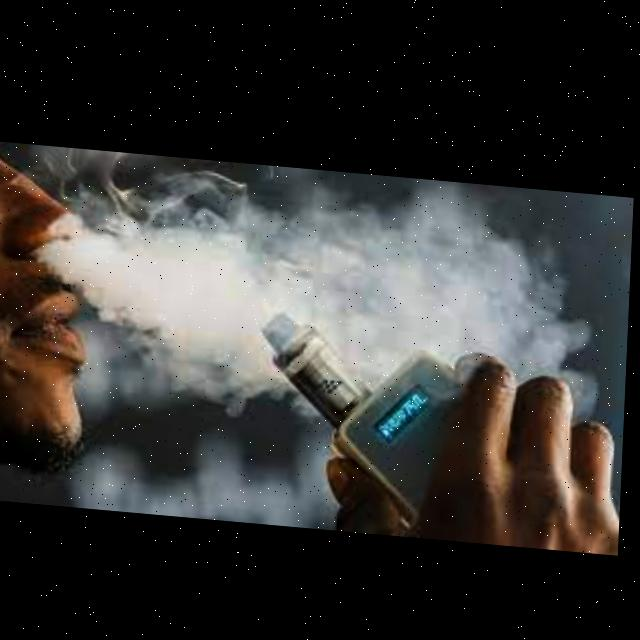vape: (257, 306, 461, 526)
